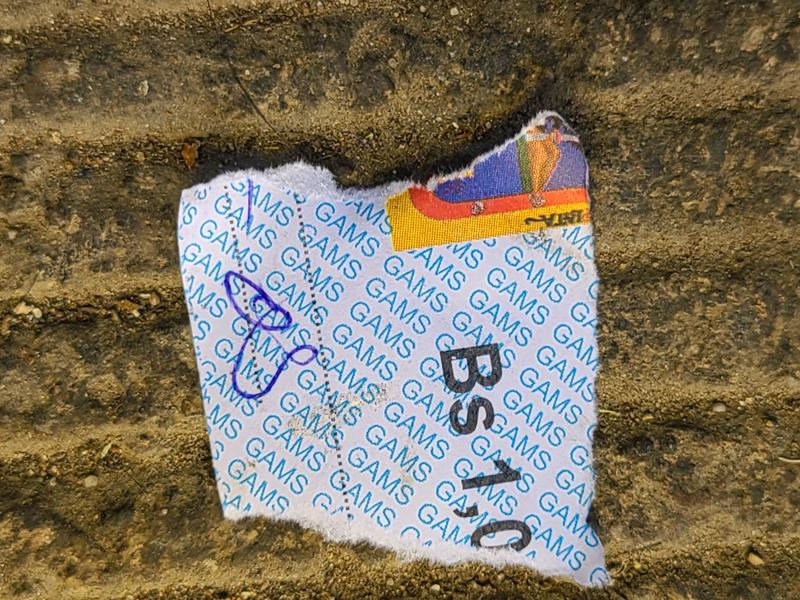papel: (174, 112, 613, 591)
